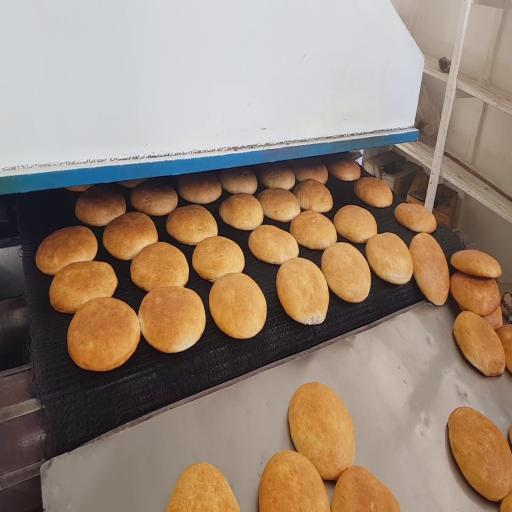bread: (288, 383, 355, 480), (448, 407, 511, 501), (68, 298, 140, 371), (139, 286, 205, 353), (259, 451, 330, 511), (209, 273, 266, 338), (166, 463, 239, 511), (276, 258, 329, 324), (50, 262, 117, 313), (454, 311, 505, 376), (331, 466, 400, 511), (36, 226, 97, 275), (131, 242, 189, 291), (322, 243, 370, 302), (410, 233, 449, 305), (103, 212, 157, 260), (366, 233, 413, 284), (192, 237, 244, 282), (451, 272, 500, 316), (75, 185, 126, 226), (166, 205, 217, 245), (249, 225, 298, 264), (290, 211, 337, 249), (131, 180, 178, 216), (334, 205, 377, 243), (219, 193, 263, 230), (258, 188, 300, 222), (451, 250, 501, 277), (178, 173, 221, 204), (294, 179, 332, 212), (395, 203, 436, 233), (354, 177, 392, 207), (258, 162, 296, 190), (219, 168, 257, 194), (326, 155, 360, 181), (293, 159, 328, 184), (496, 324, 512, 372), (483, 306, 503, 330), (482, 307, 502, 330), (118, 179, 147, 188), (500, 495, 511, 511), (66, 185, 91, 192)
